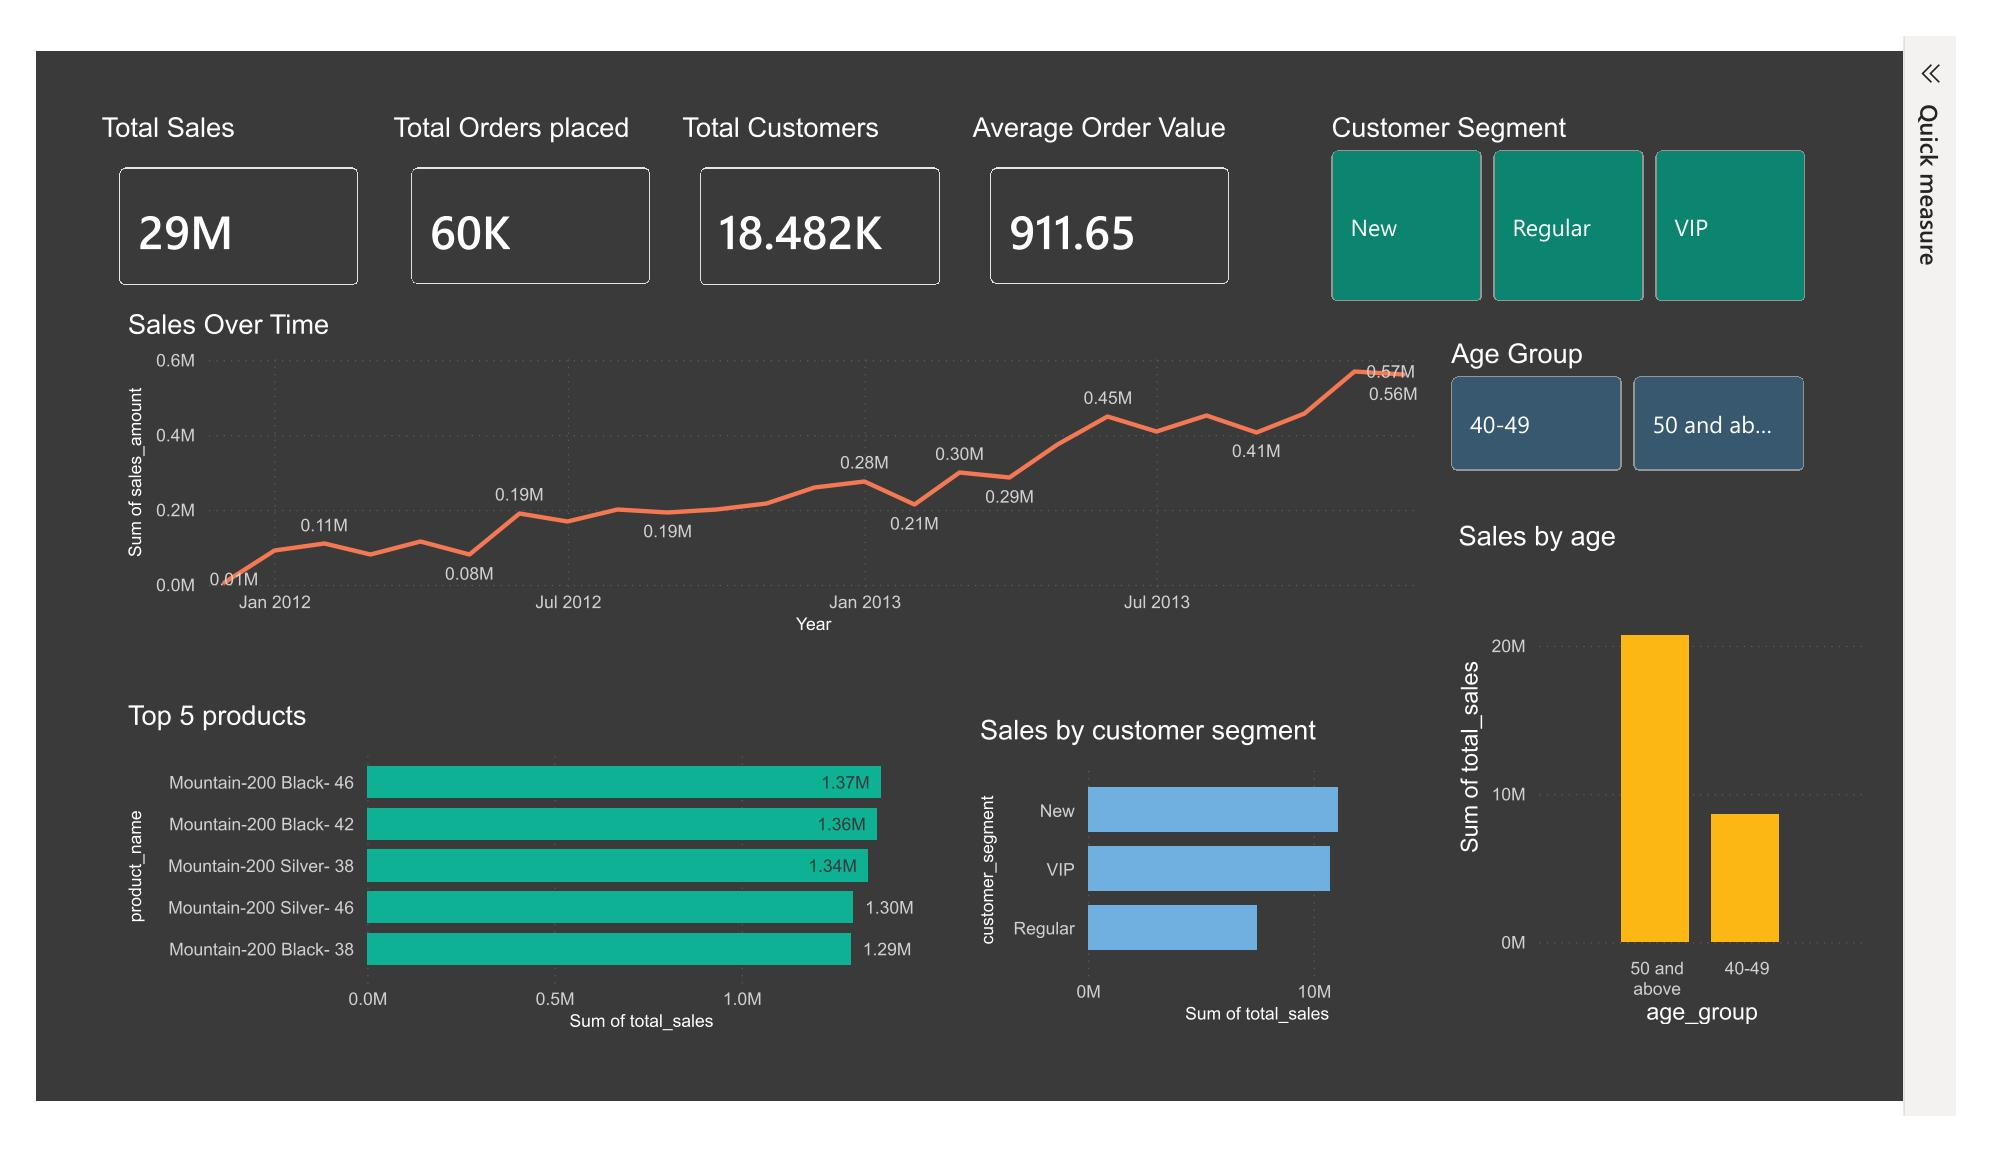

The page's visual inventory and layout, read from the dashboard file:
{"tool":"powerbi","page":{"name":"Page 1","canvas":[1280,720],"ordinal":0},"visuals":[{"type":"cardVisual","title":"Total Sales","fields":{"Data":["Sum(gold report_customers.total_sales)"]},"box":[40,41.7,198.3,136.7],"z":0},{"type":"cardVisual","title":"Total Customers","fields":{"Data":["Count(gold report_customers.customer_key)"]},"box":[438.3,41.7,198.3,136.7],"z":1000},{"type":"cardVisual","title":"Average Order Value","fields":{"Data":["Avg(gold report_customers.avg_order_value)"]},"box":[636.7,41.7,198.3,135],"z":2000},{"type":"clusteredBarChart","title":"Sales by customer segment","fields":{"Y":["Sum(gold report_customers.total_sales)"],"Category":["gold report_customers.customer_segment"]},"box":[636.7,445,338.3,231.7],"z":3000},{"type":"columnChart","title":"Sales by age","fields":{"Category":["gold report_customers.age_group"],"Y":["Sum(gold report_customers.total_sales)"]},"box":[965,311.7,298.3,365],"z":4000},{"type":"advancedSlicerVisual","title":"Age Group","fields":{"Values":["gold report_customers.age_group"]},"box":[965,196.7,253.3,96.7],"z":5000},{"type":"cardVisual","title":"Total Orders placed","fields":{"Data":["Sum(gold report_products.total_orders)"]},"box":[240,41.7,198.3,135],"z":6000},{"type":"clusteredBarChart","title":"Top 5 products","fields":{"Category":["gold report_products.product_name"],"Y":["Sum(gold report_products.total_sales)"]},"box":[58.3,445,563.3,231.7],"z":7000},{"type":"lineChart","title":"Sales Over Time","fields":{"Y":["Sum(gold fact_sales.sales_amount)"],"Category":["gold fact_sales.order_date.Variation.Date Hierarchy.Year","gold fact_sales.order_date.Variation.Date Hierarchy.Quarter","gold fact_sales.order_date.Variation.Date Hierarchy.Month"]},"box":[58.3,176.7,906.7,228.3],"z":8000},{"type":"advancedSlicerVisual","title":"Customer Segment","fields":{"Values":["gold report_customers.customer_segment"]},"box":[883.3,41.7,335,135],"z":9000}]}

Visuals, with their boxes on the page's 1280x720 design canvas (x1, y1, x2, y2). These are canvas units, not pixel positions in the 1992x1152 screenshot, which may show the page scaled, cropped or inside an application window:
"Total Sales" cardVisual: box(40, 42, 238, 178)
"Total Customers" cardVisual: box(438, 42, 637, 178)
"Average Order Value" cardVisual: box(637, 42, 835, 177)
"Sales by customer segment" clusteredBarChart: box(637, 445, 975, 677)
"Sales by age" columnChart: box(965, 312, 1263, 677)
"Age Group" advancedSlicerVisual: box(965, 197, 1218, 293)
"Total Orders placed" cardVisual: box(240, 42, 438, 177)
"Top 5 products" clusteredBarChart: box(58, 445, 622, 677)
"Sales Over Time" lineChart: box(58, 177, 965, 405)
"Customer Segment" advancedSlicerVisual: box(883, 42, 1218, 177)
